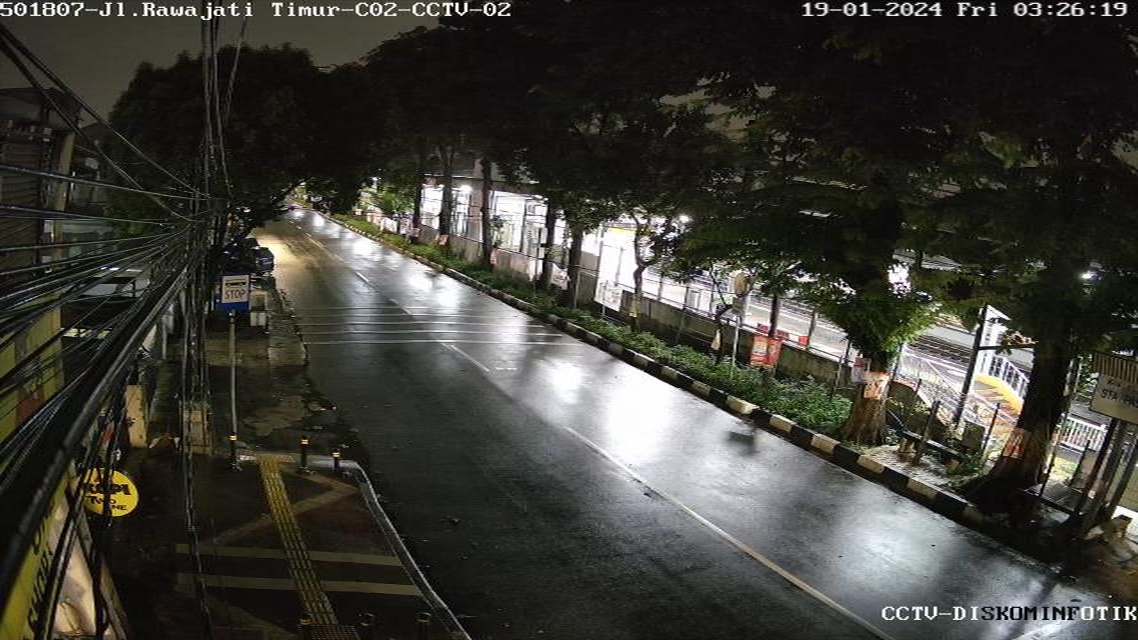Gerobak: (247, 281, 274, 333)
